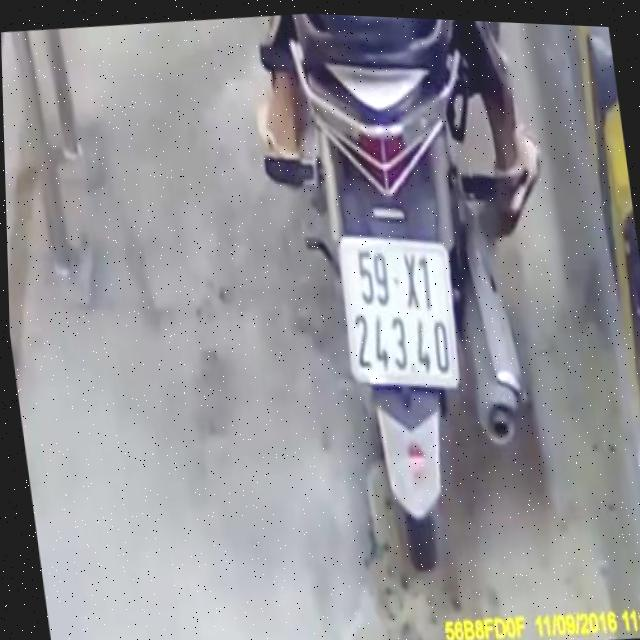motorcycle: (264, 12, 559, 619)
plate: (328, 221, 470, 402)
